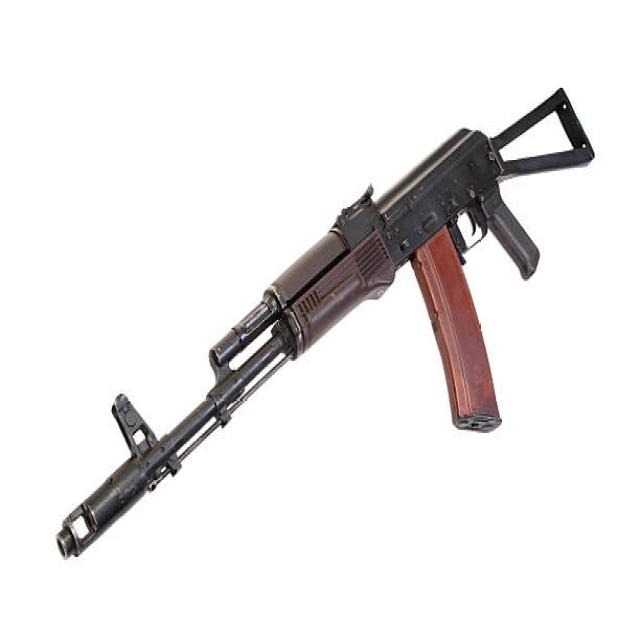rifle: (53, 73, 600, 569)
